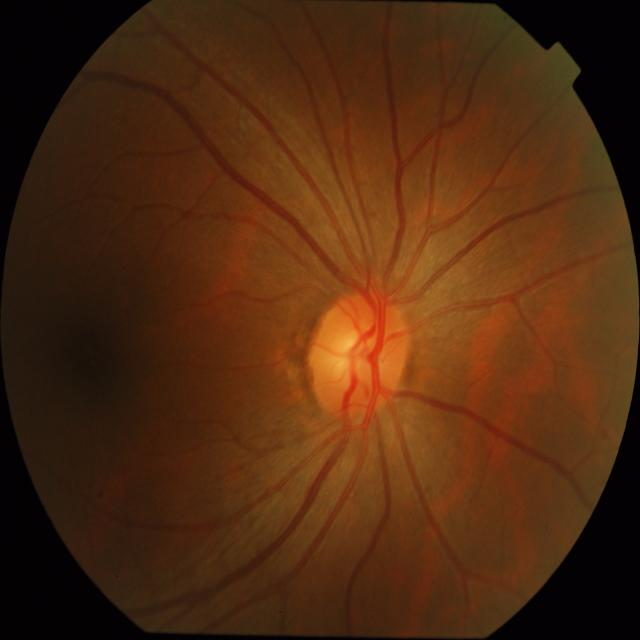OC: (330, 324, 381, 388)
OD: (306, 291, 410, 419)
